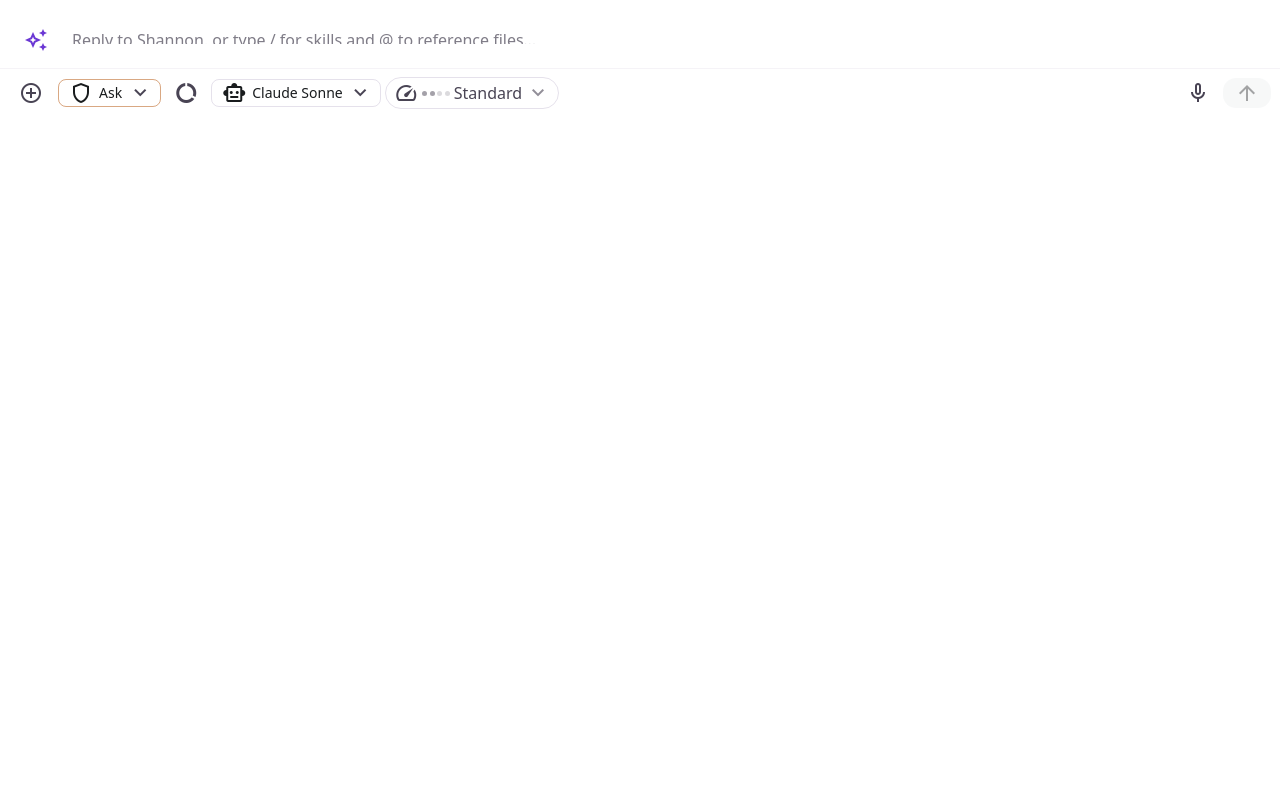
it: ChatInput approval-mode chip + dropdown (02c 裁决 D3) › the dropdown lists exactly the four ladder stops plus the high-risk note
Step 1. Click the dropdown with test id "approval-mode-pill" → (110, 93), box [58,79,161,107]
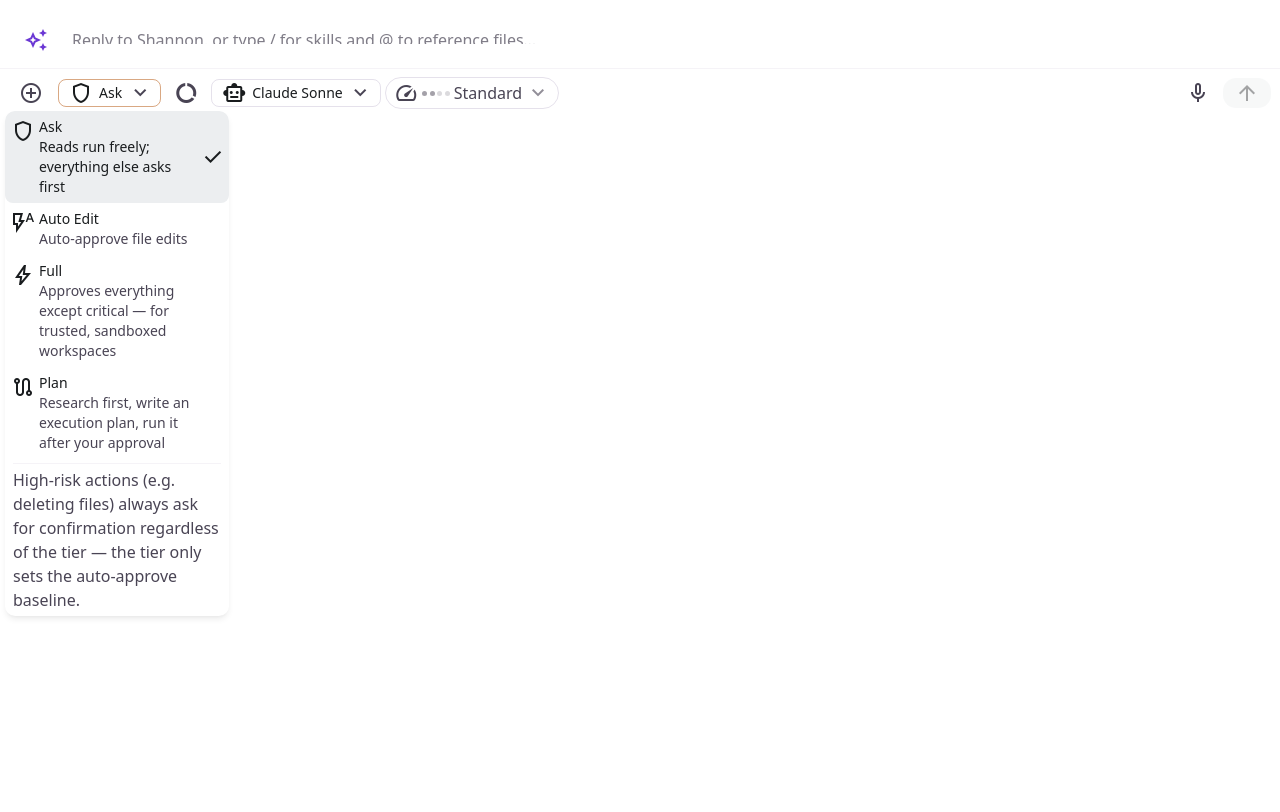
Check: the text "High-risk actions" is shown, box [13,469,219,611]
